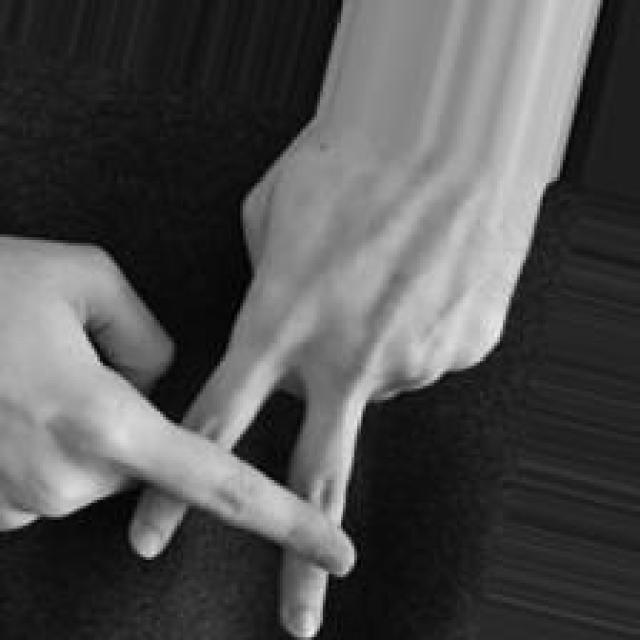A: (1, 143, 531, 640)
